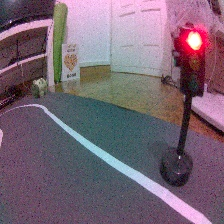red: (159, 21, 208, 193)
